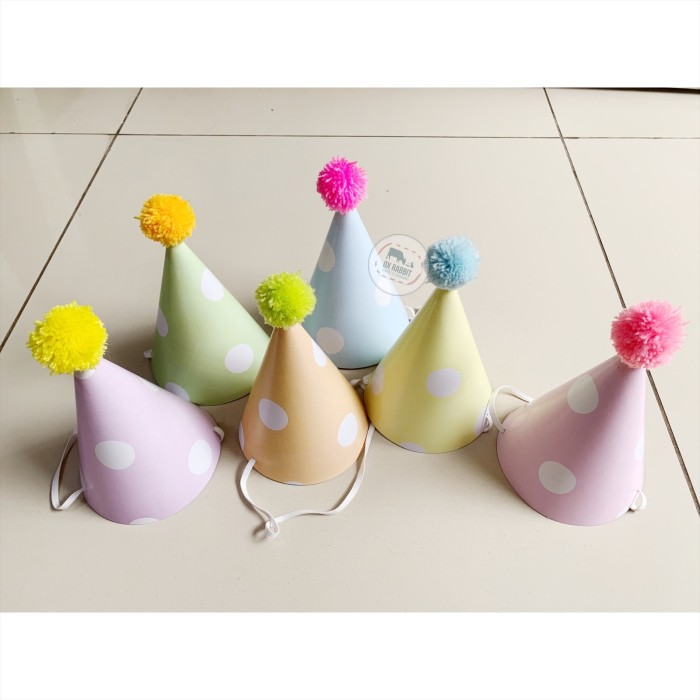cone: (497, 353, 644, 526), (74, 356, 220, 525), (238, 322, 368, 486), (364, 288, 491, 453), (151, 241, 270, 405), (301, 207, 411, 369)
